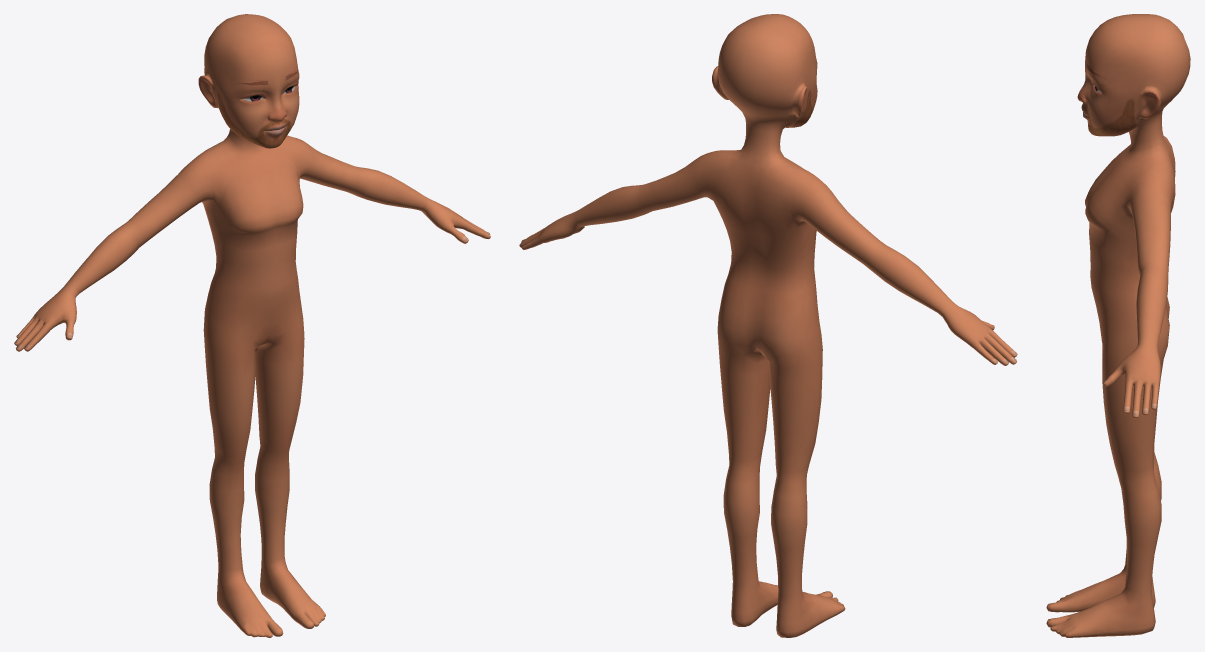
Rendered from frame_0081.glb.
3 views of the same model, side by side, from view 1: azimuth 30°, elevation 25°; view 2: azimuth 150°, elevation 25°; view 3: azimuth 270°, elevation 25° (orthographic). The views are drawn at different scales.
Visible parts, largest first — view 1: frame_0081_head_geo; view 2: frame_0081_head_geo; view 3: frame_0081_head_geo.
Part boxes in pixels (x1,y1,x2,y2): frame_0081_head_geo: (14,14,490,637); frame_0081_head_geo: (519,14,1017,637); frame_0081_head_geo: (1046,14,1190,637).
Size of the model in its own units: 1.28 by 1.5 by 0.3253.
3 materials, 3 textured.
